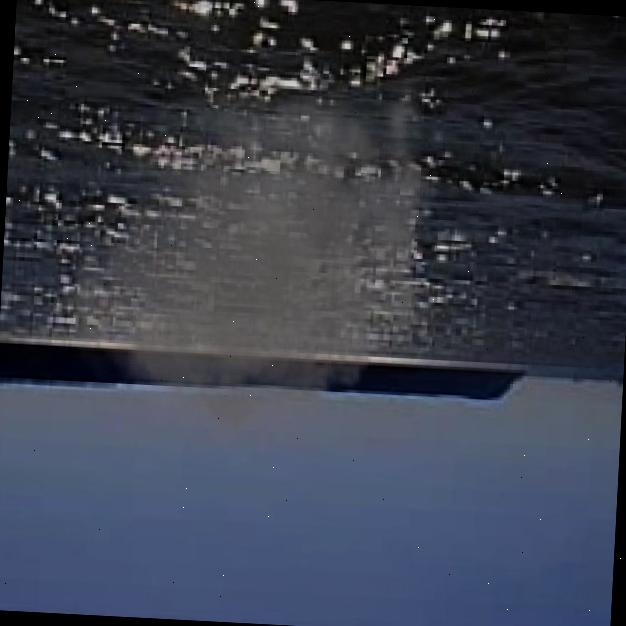smoke: (49, 43, 457, 468)
